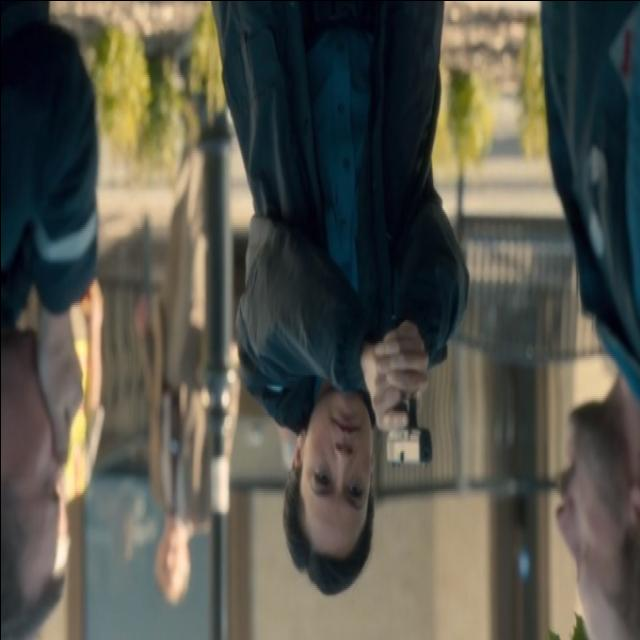weapons: (370, 300, 437, 480)
